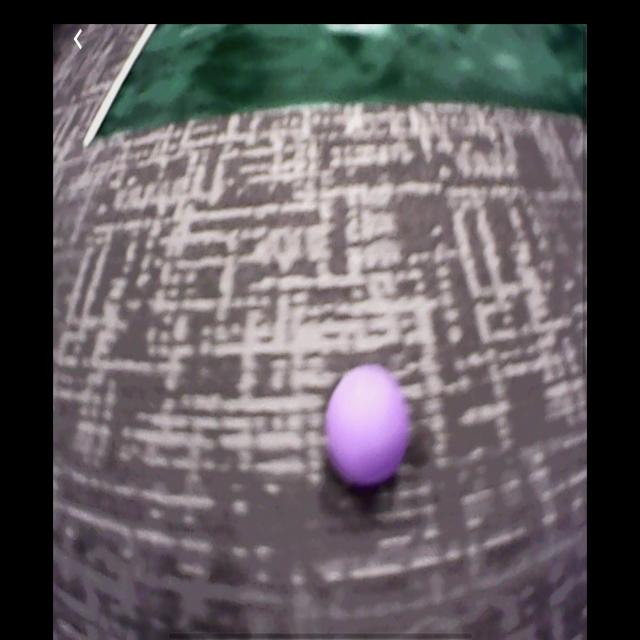ball: (326, 364, 406, 488)
